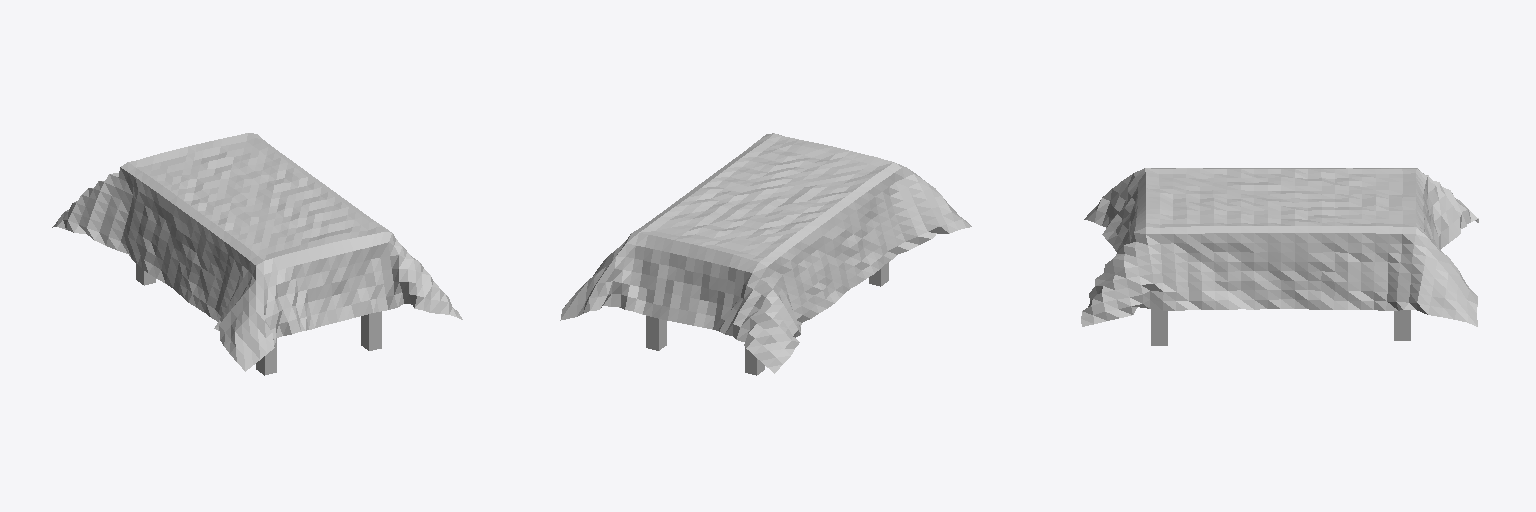
The model's file is mesa.obj.
3 views of the same model, side by side, from view 1: azimuth 30°, elevation 25°; view 2: azimuth 150°, elevation 25°; view 3: azimuth 270°, elevation 25° (orthographic).
Parts seen in each view (by area): view 1: Plano_Plano.001, Cubo.004; view 2: Plano_Plano.001, Cubo.003; view 3: Plano_Plano.001, Cubo.004.
Part boxes in pixels (x1,y1,x2,y2): Plano_Plano.001: (52,133,462,371); Cubo.004: (361,311,381,350); Plano_Plano.001: (560,133,971,373); Cubo.003: (646,316,666,350); Plano_Plano.001: (1081,168,1478,326); Cubo.004: (1151,309,1167,345).
Bounding box in the file's own units: 4.41 × 2.26 × 6.78.